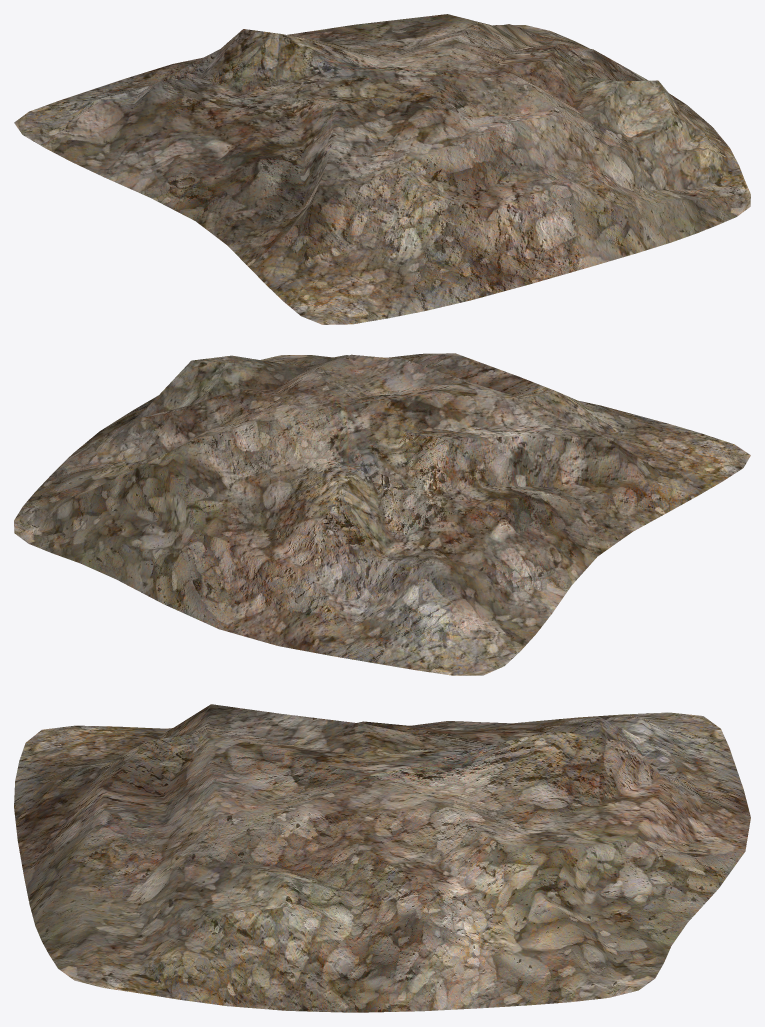
The model's file is Ruins_Rubble_Pile_02.fbx.
3 views of the same model, one above another, from view 1: azimuth 30°, elevation 25°; view 2: azimuth 150°, elevation 25°; view 3: azimuth 270°, elevation 25° (orthographic). The views are drawn at different scales.
Parts seen in each view (by area): view 1: Ruins_Rubble_Pile_02; view 2: Ruins_Rubble_Pile_02; view 3: Ruins_Rubble_Pile_02.
Part boxes in pixels (bbox=[...]): Ruins_Rubble_Pile_02: bbox=[14, 14, 750, 324]; Ruins_Rubble_Pile_02: bbox=[14, 353, 750, 675]; Ruins_Rubble_Pile_02: bbox=[14, 704, 750, 1012].
Bounding box in the file's own units: 2.82 × 0.4411 × 2.92.
1 material, 1 textured.
